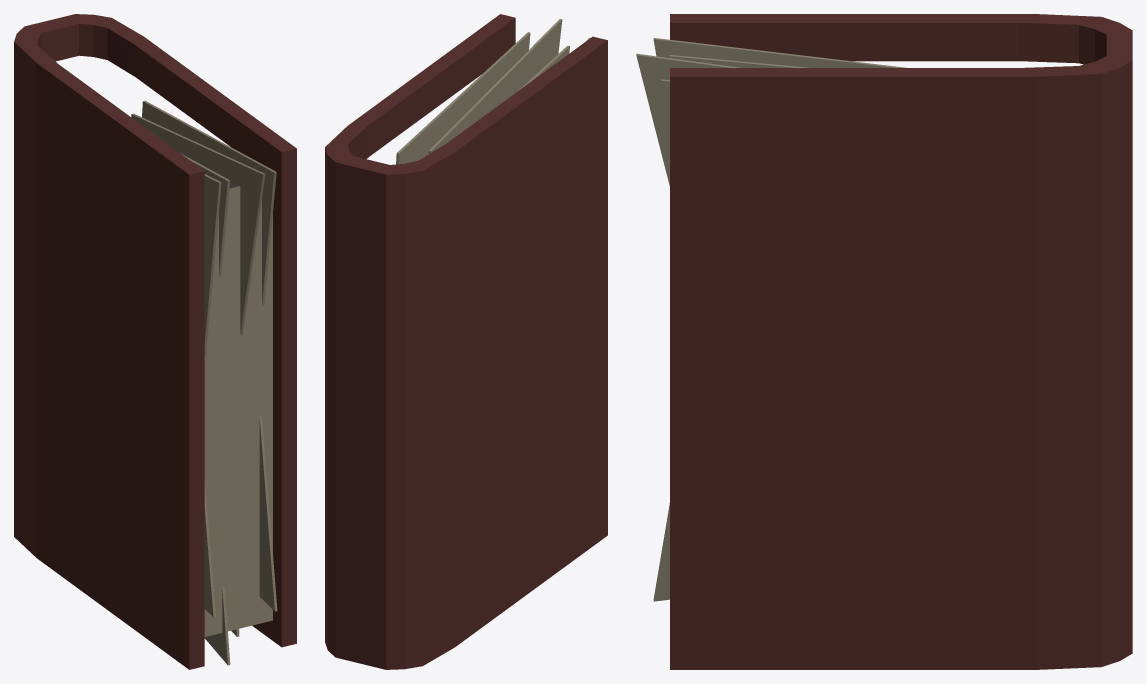
Rendered from quaternius-rpg-items-pack-book1-closed.glb.
3 renders of one model, left to right at view 1: azimuth 30°, elevation 25°; view 2: azimuth 150°, elevation 25°; view 3: azimuth 270°, elevation 25°, orthographic. The views are drawn at different scales.
Parts seen in each view (by area): view 1: Book1_Closed; view 2: Book1_Closed; view 3: Book1_Closed.
Boxes of the visible parts, bbox=[...] form: Book1_Closed: bbox=[14, 14, 296, 669]; Book1_Closed: bbox=[325, 14, 607, 669]; Book1_Closed: bbox=[636, 14, 1132, 669].
Size of the model in its own units: 0.1795 by 0.802 by 0.5993.
